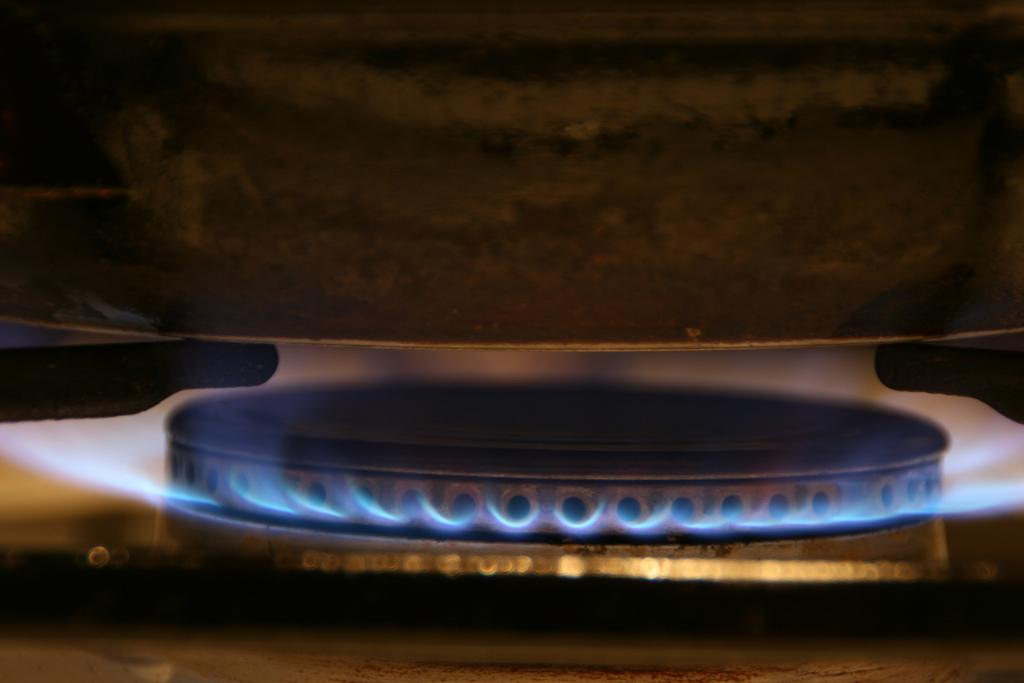fire: (282, 350, 882, 430), (17, 417, 185, 492), (942, 390, 1022, 502)
